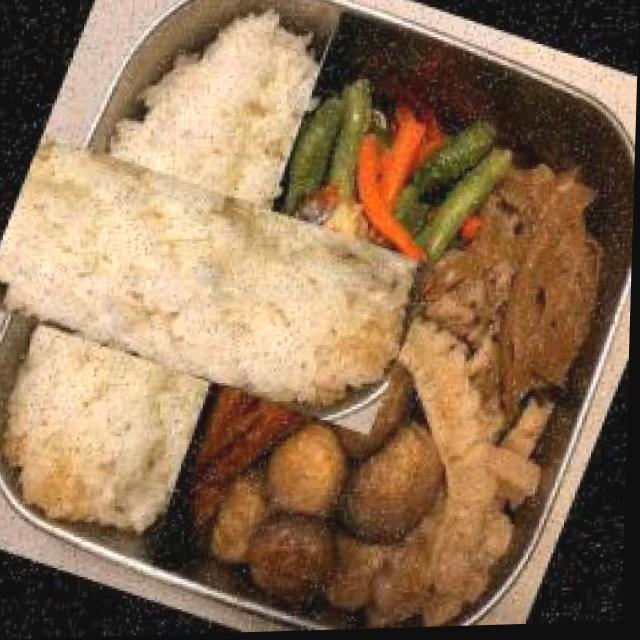rice: (0, 41, 389, 500)
